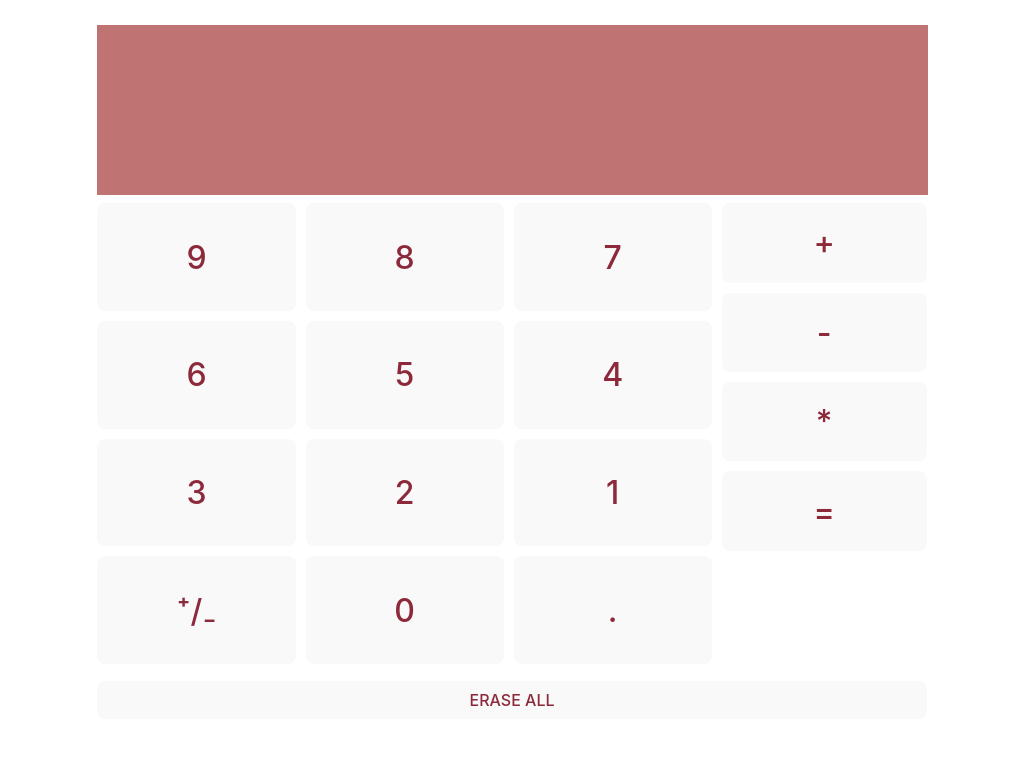
Test: App component › displays number when number button is clicked
The width and height of the screenshot is (1024, 768).
Click the button "1": x=613, y=492 [514,439,712,546]
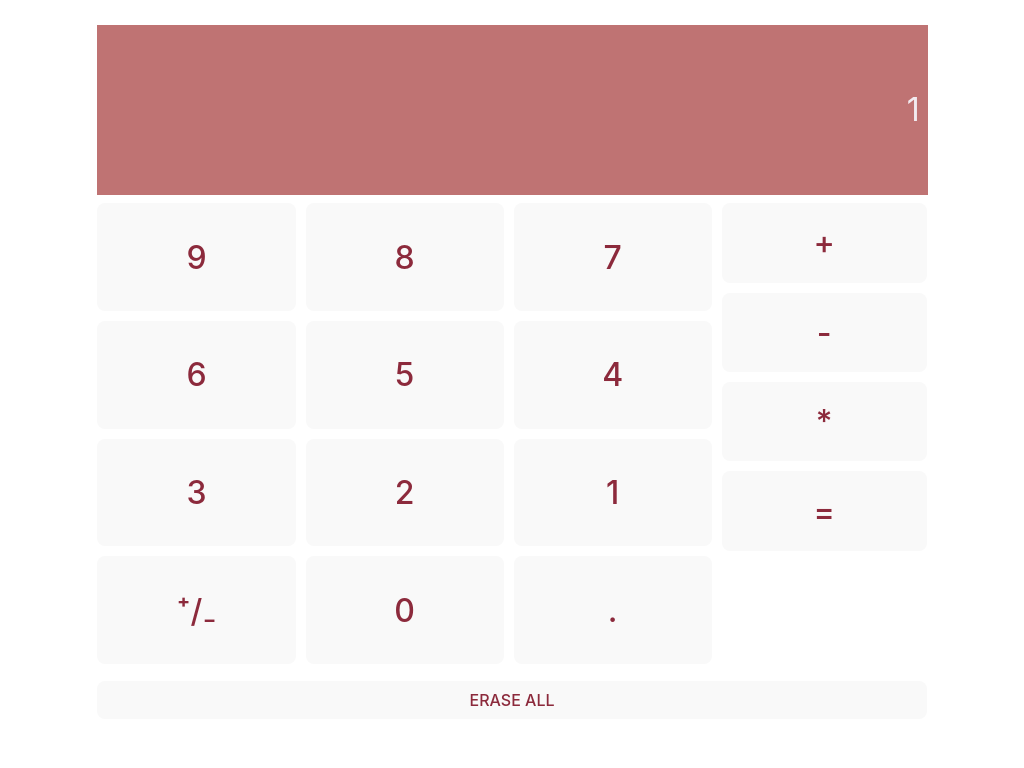
Expected: the text "1" is shown, [97,25,928,195]
